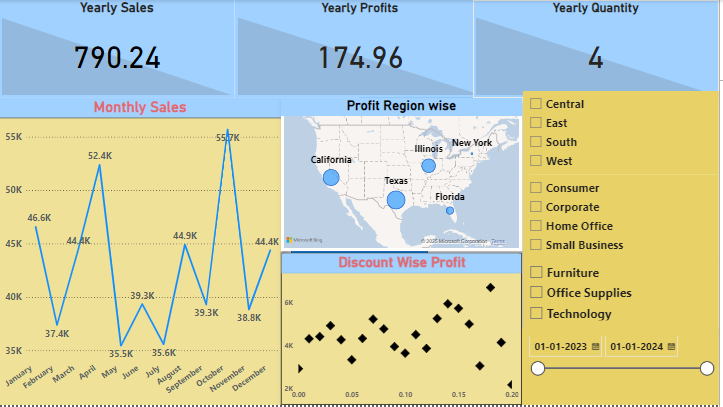

The dashboard page shown, as its layout file describes it:
{"tool":"powerbi","page":{"name":"Page 1","canvas":[1280,720],"ordinal":0},"visuals":[{"type":"shape","box":[0,174.7,352.8,545.9],"z":1},{"type":"lineChart","title":"Monthly Sales","fields":{"Y":["Sum(Sheet1.Sales Amount)"],"Category":["Sheet1.Order Date.Variation.Date Hierarchy.Month"]},"box":[0,174.7,502.3,545.9],"z":2},{"type":"shape","box":[519.1,174.7,243.6,545.9],"z":3},{"type":"map","title":"Profit Region wise","fields":{"Category":["Sheet1.State"],"Size":["Sum(Sheet1.Profit)"]},"box":[502.1,174.7,428.5,272.2],"z":4},{"type":"scatterChart","title":"Discount Wise Profit","fields":{"X":["Sheet1.Discount"],"Y":["Sum(Sheet1.Profit)"]},"box":[501.3,449.8,428.4,270.2],"z":5},{"type":"shape","box":[640.9,0,241.2,174.3],"z":6},{"type":"kpi","title":"Yearly Sales","fields":{"Indicator":["Sheet1.Total Sales"],"TrendLine":["Sheet1.Order Date.Variation.Date Hierarchy.Year"]},"box":[0,0,419,174.3],"z":7},{"type":"kpi","title":"Yearly Profits","fields":{"Indicator":["Sum(Sheet1.Profit)"],"TrendLine":["Sheet1.Order Date.Variation.Date Hierarchy.Year"]},"box":[419,0,443.7,174.3],"z":8},{"type":"kpi","title":"Yearly Quantity","fields":{"Indicator":["Sum(Sheet1.Quantity)"],"TrendLine":["Sheet1.Order Date.Variation.Date Hierarchy.Year"]},"box":[843.4,0,436.6,174.3],"z":9},{"type":"slicer","fields":{"Values":["Sheet1.Order Date"]},"box":[929.8,584.9,350.2,135.1],"z":10},{"type":"slicer","fields":{"Values":["Sheet1.Region"]},"box":[931.6,161.8,348.4,149.3],"z":11},{"type":"slicer","fields":{"Values":["Sheet1.Customer Segment"]},"box":[932,311,348,150],"z":12},{"type":"slicer","fields":{"Values":["Sheet1.Category"]},"box":[931.6,460.4,348.4,136.9],"z":13}]}

Visuals, with their boxes in screenshot pixels (x1, y1, x2, y2), scaled from the page's 1280x720 canvas onto the 723x407 screenshot:
shape: box(0, 99, 199, 406)
"Monthly Sales" lineChart: box(0, 99, 284, 406)
shape: box(293, 99, 431, 406)
"Profit Region wise" map: box(284, 99, 526, 253)
"Discount Wise Profit" scatterChart: box(283, 254, 525, 406)
shape: box(362, 0, 498, 99)
"Yearly Sales" kpi: box(0, 0, 237, 99)
"Yearly Profits" kpi: box(237, 0, 487, 99)
"Yearly Quantity" kpi: box(476, 0, 722, 99)
slicer - Sheet1.Order Date: box(525, 331, 722, 406)
slicer - Sheet1.Region: box(526, 91, 722, 176)
slicer - Sheet1.Customer Segment: box(526, 176, 722, 261)
slicer - Sheet1.Category: box(526, 260, 722, 338)
